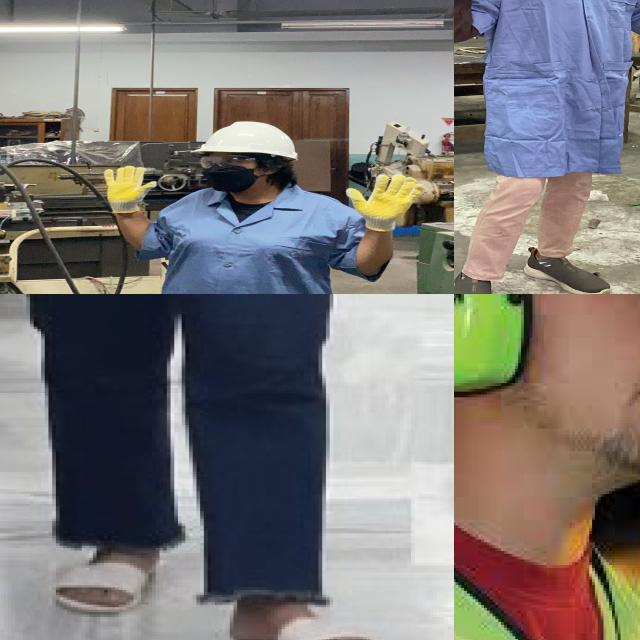Ear-protection: (454, 294, 532, 394)
Sandals: (207, 565, 388, 640), (39, 527, 170, 620)
face_mask: (191, 153, 265, 195)
glasses: (193, 155, 267, 169)
hand_glove: (341, 170, 430, 226), (94, 164, 163, 211)
head_helmet: (186, 118, 306, 158)
person: (89, 120, 422, 294), (454, 0, 640, 294)
shoes: (512, 246, 621, 294), (454, 262, 509, 294)
